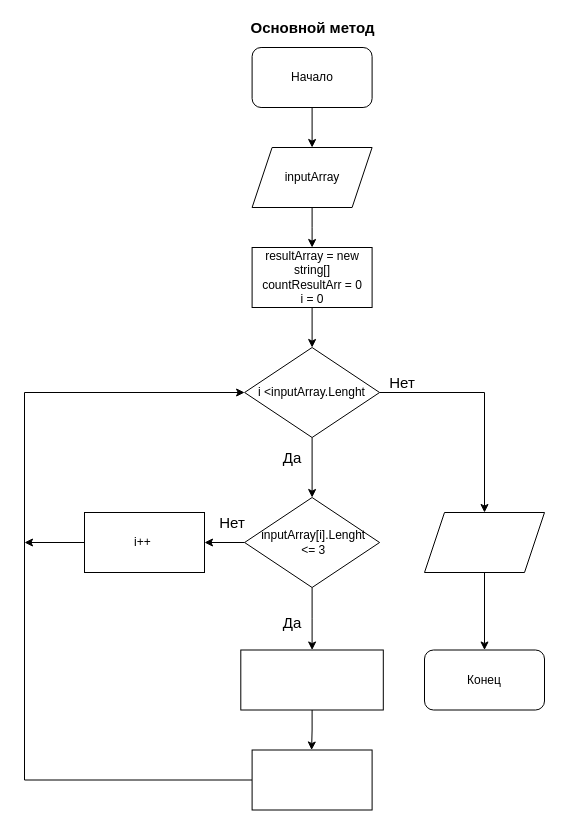
The diagram is 562 pixels wide and 827 high, and some of its shapes have lost their labels. Each missing label, with the box of its shape:
countResultArr++ i++: (251, 749, 372, 810)
resultArray[countResultArr] = inputArray[i]: (240, 649, 383, 710)
Вывод inputArray resultArray: (424, 512, 544, 572)
